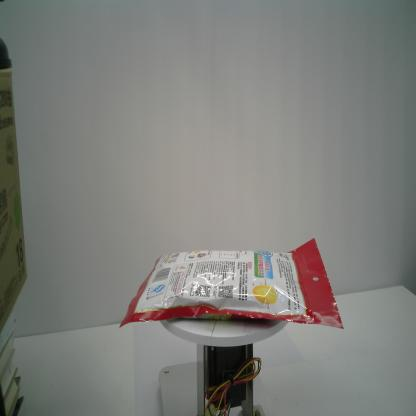Instant Drink: (118, 236, 345, 332)
